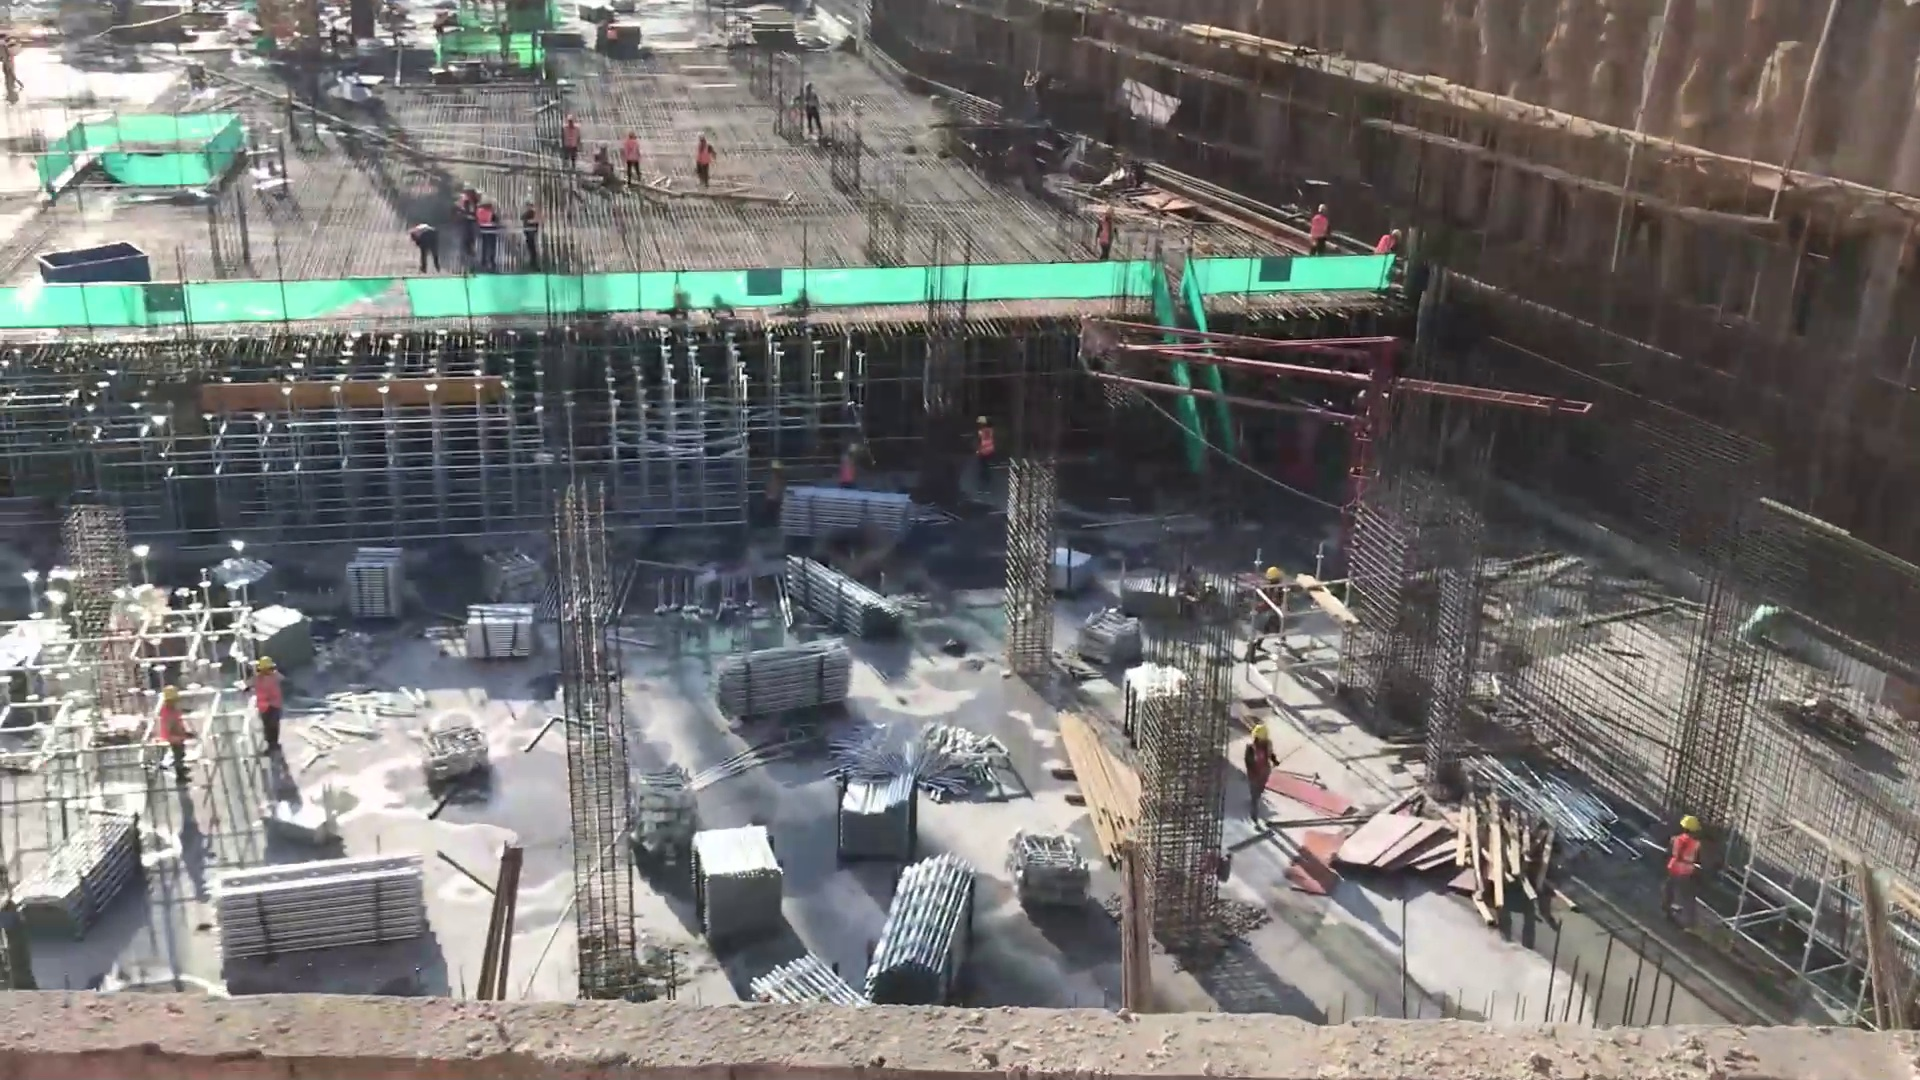helmet: (162, 681, 180, 701), (1679, 817, 1700, 830), (257, 654, 274, 669), (1251, 725, 1270, 739), (1265, 566, 1281, 579)
person: (1231, 717, 1289, 836), (1251, 562, 1305, 677), (158, 675, 195, 794), (249, 658, 296, 749), (1666, 813, 1702, 925), (968, 411, 1002, 504), (477, 195, 501, 271), (405, 223, 441, 271), (692, 132, 720, 192), (1, 37, 24, 108), (833, 435, 860, 495), (798, 82, 824, 141), (1093, 206, 1119, 261), (560, 113, 581, 181), (520, 200, 541, 266), (458, 184, 478, 254), (1306, 203, 1331, 257), (622, 131, 644, 191), (593, 139, 614, 185), (1374, 225, 1403, 257)
vest: (158, 704, 185, 744), (256, 672, 279, 715), (972, 428, 993, 454)
